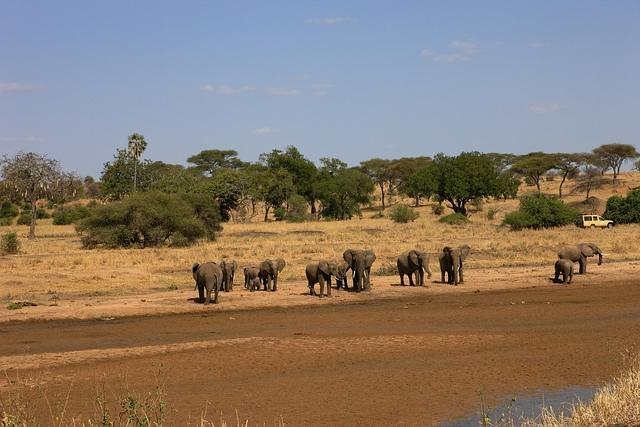car: (574, 214, 614, 229)
truck: (574, 214, 615, 230)
